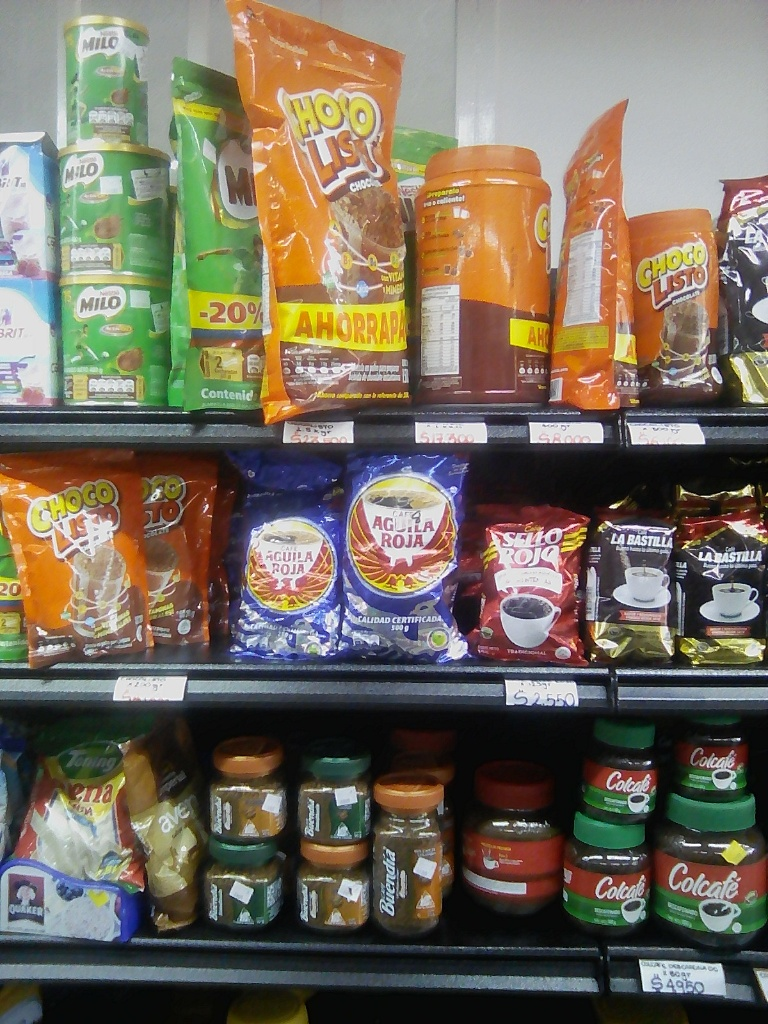COL0170103DYP1,500: (233, 0, 420, 415)
COL0170103DYP20000: (3, 445, 148, 653)
COL0170103DYP40000: (552, 97, 649, 410)
COL0170103TRR00100: (418, 128, 548, 400)
COL0170103TRR30000: (626, 203, 729, 395)
COL0170203DYP25000: (164, 9, 257, 408)
COL0170203LAT20000: (58, 9, 159, 143)
COL0170203LAT40000: (55, 146, 168, 273)
